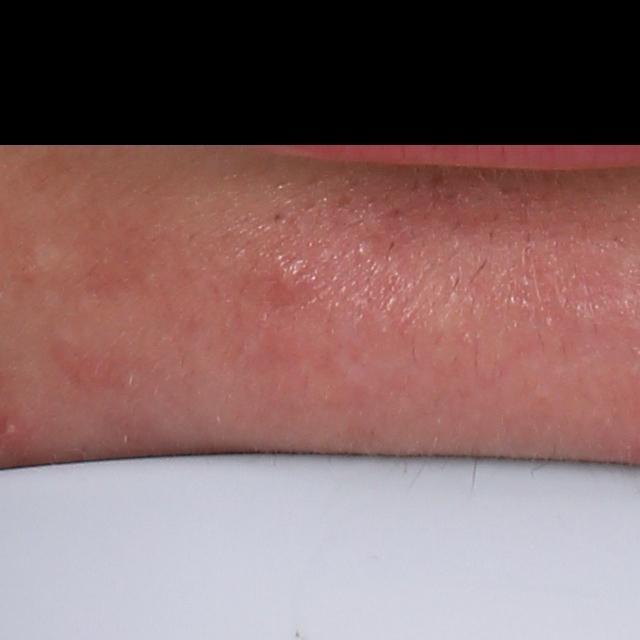hypertrophic_scar: (23, 236, 73, 277)
papule: (268, 253, 324, 317)
